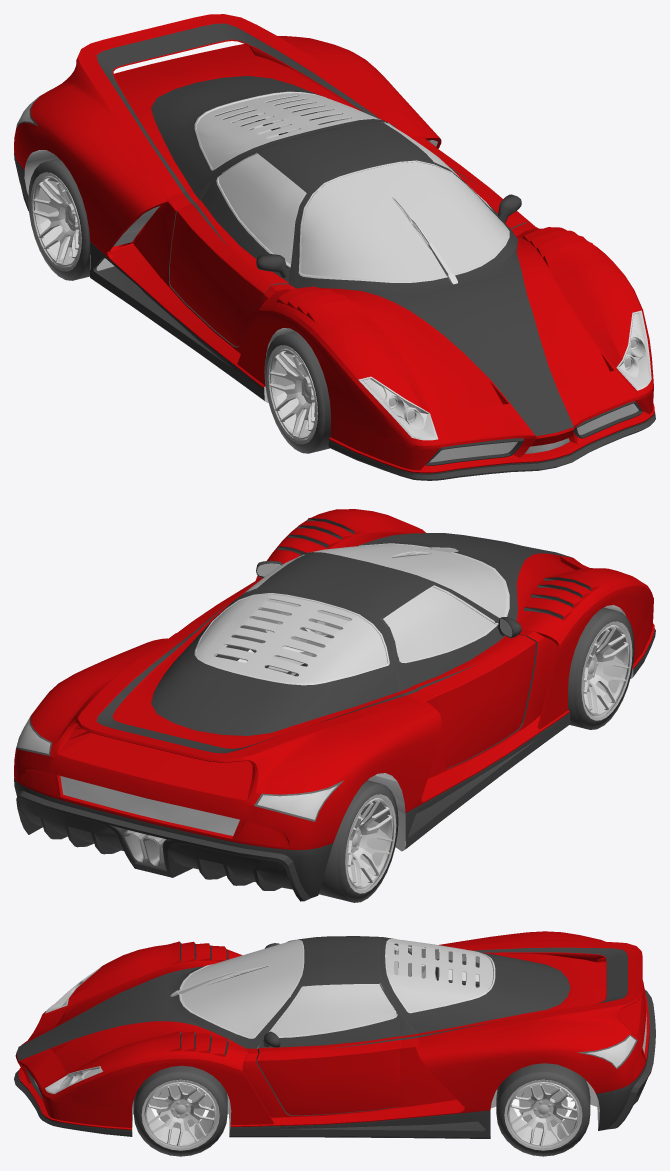
Rendered from Sports Coupe.fbx.
3 views of the same model, one above another, from view 1: azimuth 30°, elevation 25°; view 2: azimuth 150°, elevation 25°; view 3: azimuth 270°, elevation 25° (orthographic). The views are drawn at different scales.
Visible parts, largest first — view 1: Body, Door Right, Wheel FR, Wheel RR, Door Left; view 2: Body, Door Right, Wheel RR, Wheel FR, Door Left; view 3: Body, Door Left, Wheel RL, Wheel FL.
Part boxes in pixels (x1,y1,x2,y2): Body: (14, 14, 655, 480); Door Right: (169, 153, 306, 346); Wheel FR: (264, 331, 330, 453); Wheel RR: (28, 158, 90, 280); Door Left: (382, 122, 534, 229); Body: (14, 509, 655, 901); Door Right: (383, 585, 535, 768); Wheel RR: (319, 780, 398, 902); Wheel FR: (568, 607, 634, 729); Door Left: (177, 555, 304, 634); Body: (14, 931, 655, 1138); Door Left: (256, 983, 401, 1115); Wheel RL: (496, 1063, 590, 1156); Wheel FL: (133, 1065, 227, 1156).
Bounding box in the file's own units: 244 × 137 × 552.
